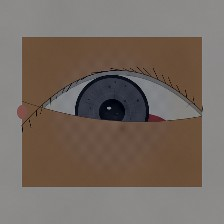hemorrhage_spot: (87, 89, 183, 167)
